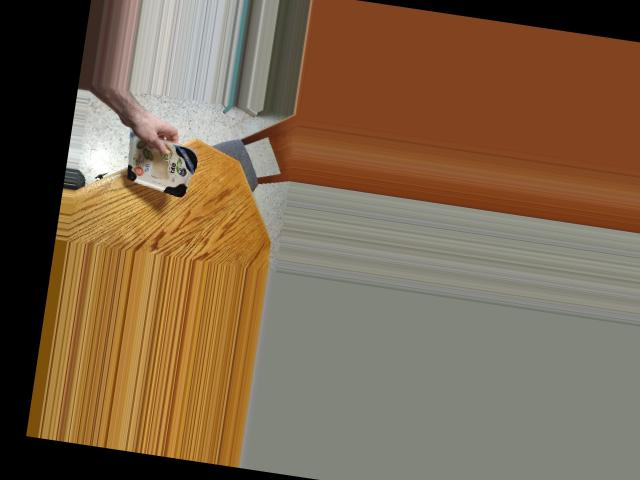cheese: (107, 131, 203, 197)
